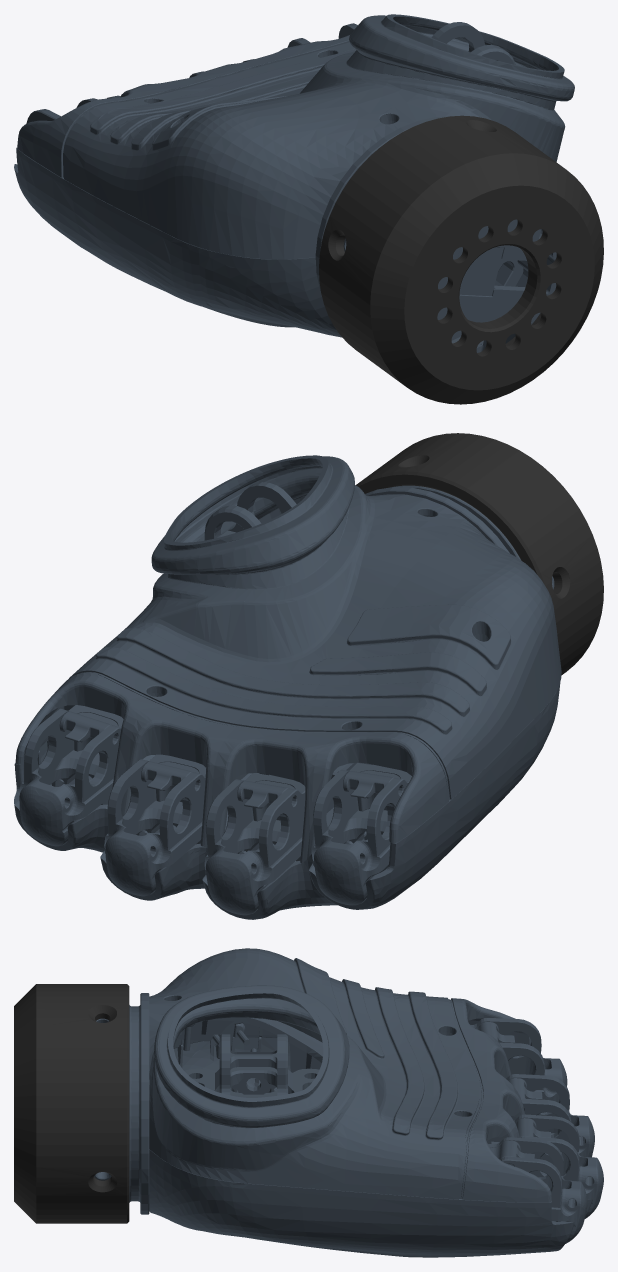
The picture shows the model from 3 angles, top to bottom: view 1: azimuth 30°, elevation 25°; view 2: azimuth 150°, elevation 25°; view 3: azimuth 270°, elevation 25°; orthographic projection. The views are drawn at different scales.
Visible parts, largest first — view 1: right_hand_base; view 2: right_hand_base; view 3: right_hand_base.
Boxes of the visible parts, bbox=[...] form: right_hand_base: bbox=[14, 14, 603, 404]; right_hand_base: bbox=[14, 433, 603, 919]; right_hand_base: bbox=[14, 948, 603, 1257].
Bounding box in the file's own units: 0.0884 × 0.1329 × 0.063.
